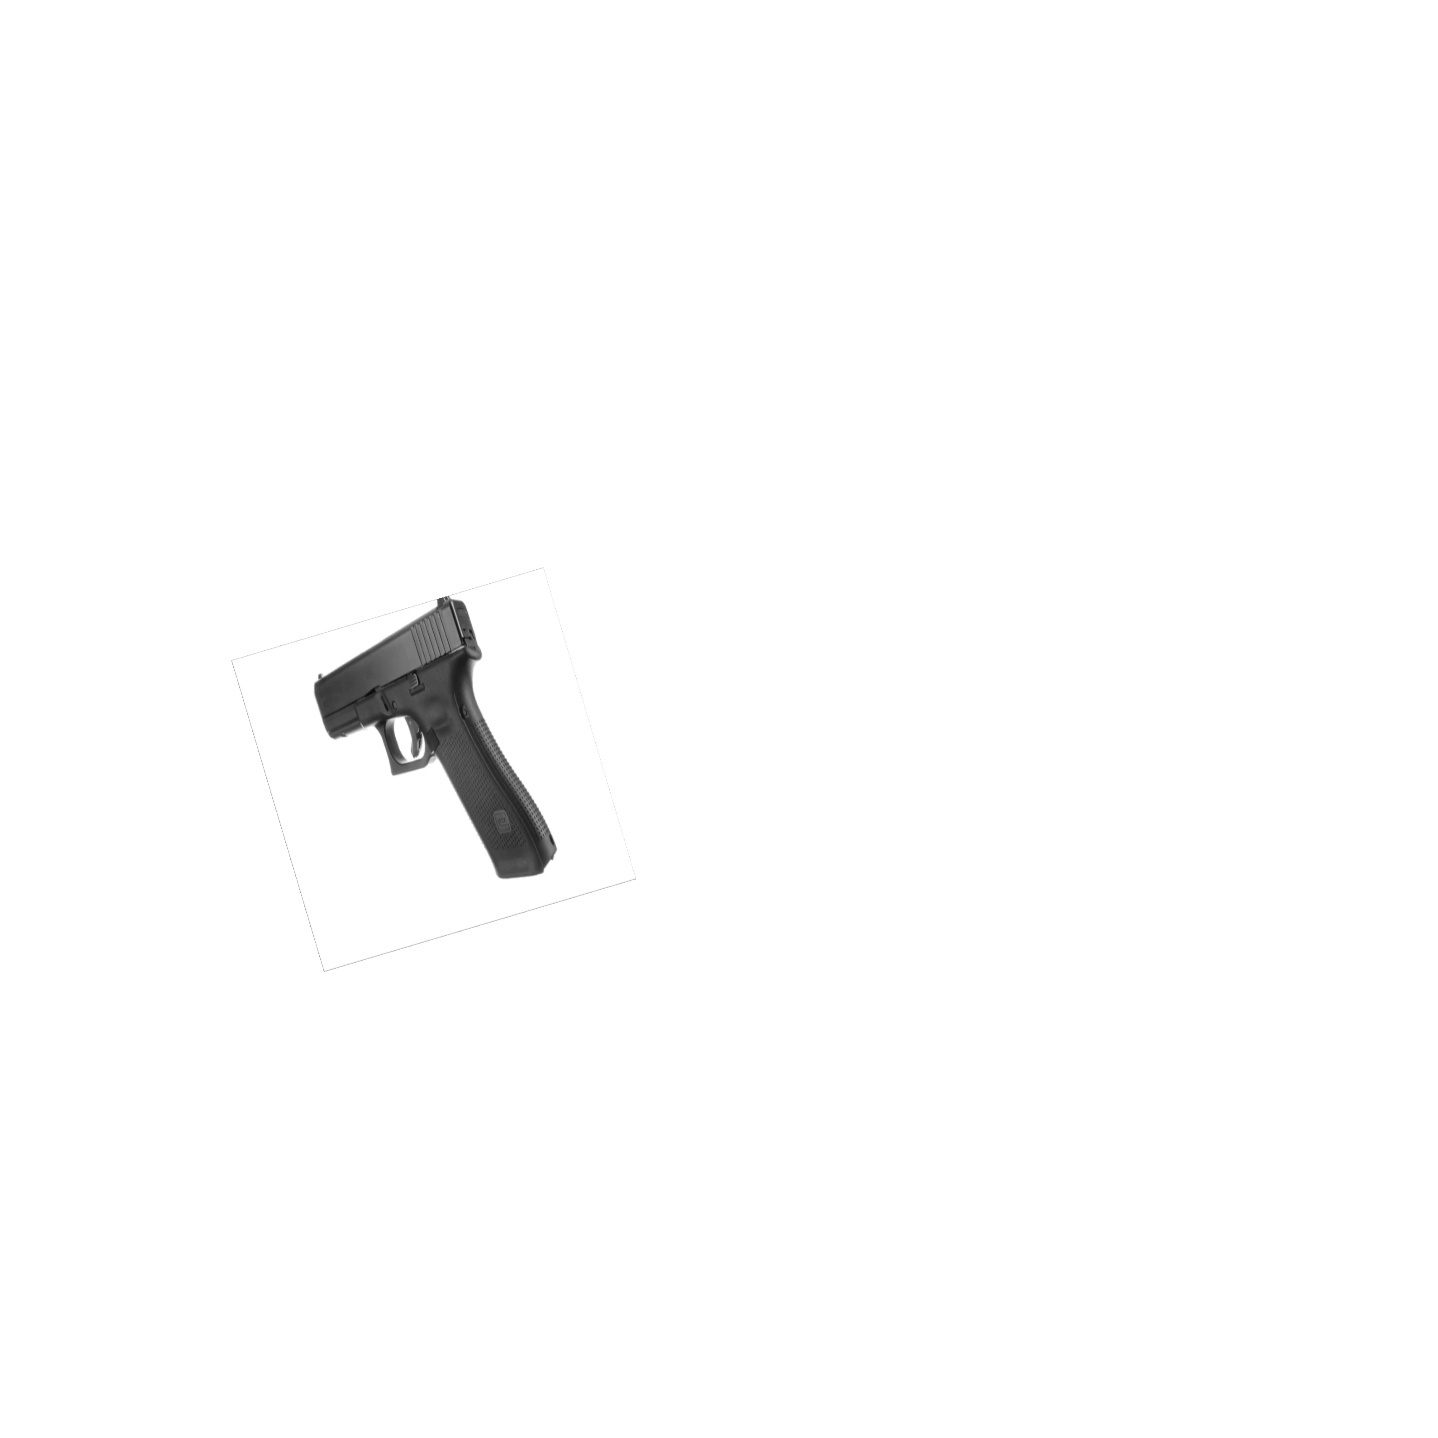gun: (306, 589, 568, 886)
